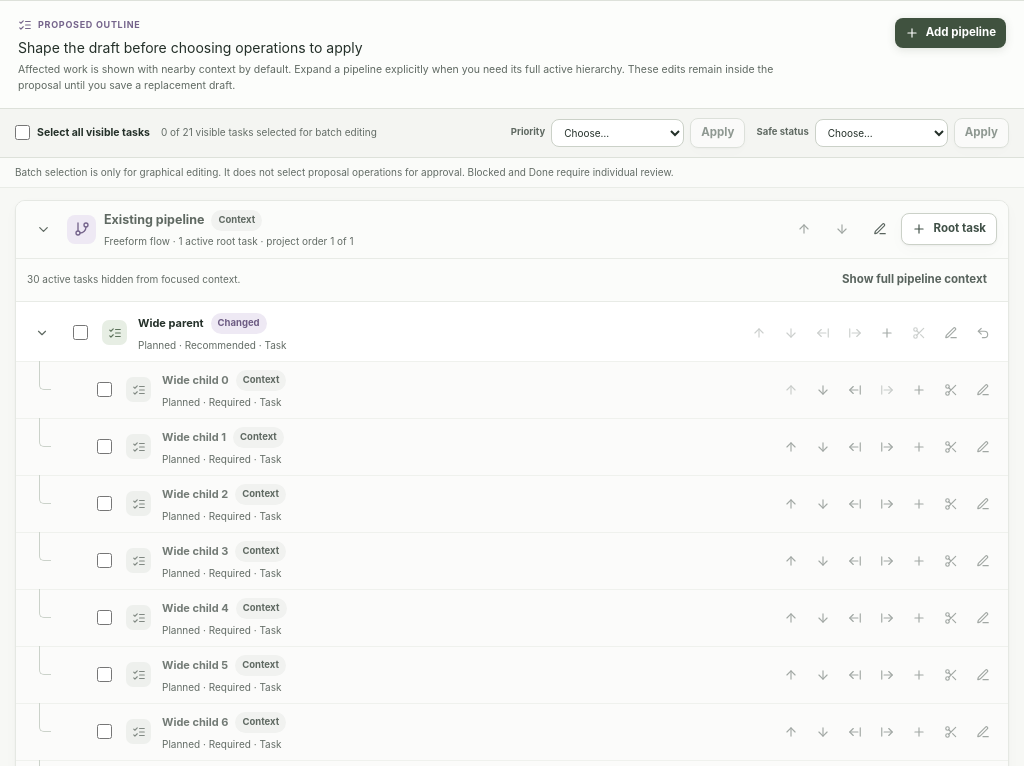
Test case: ProposedOutline accessibility and pipeline controls › caps a wide affected parent at 20 context children until full context is requested
Expected: the text "30 active tasks hidden from focused context." is shown, x1=27 y1=272 x2=240 y2=287
Click the button "Show full pipeline context" at (914, 280), box x1=832 y1=264 x2=997 y2=294
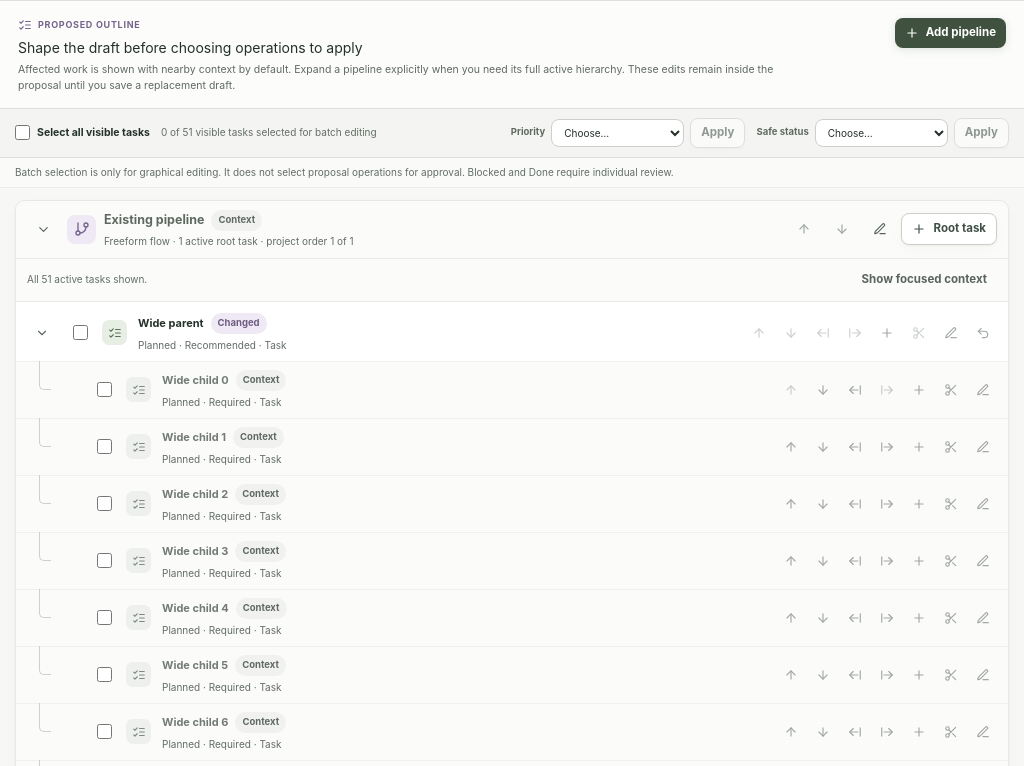
Expected: the text "All 51 active tasks shown." is shown, x1=27 y1=272 x2=147 y2=287
Expected: the button "Show focused context" is shown, x1=852 y1=264 x2=997 y2=294
